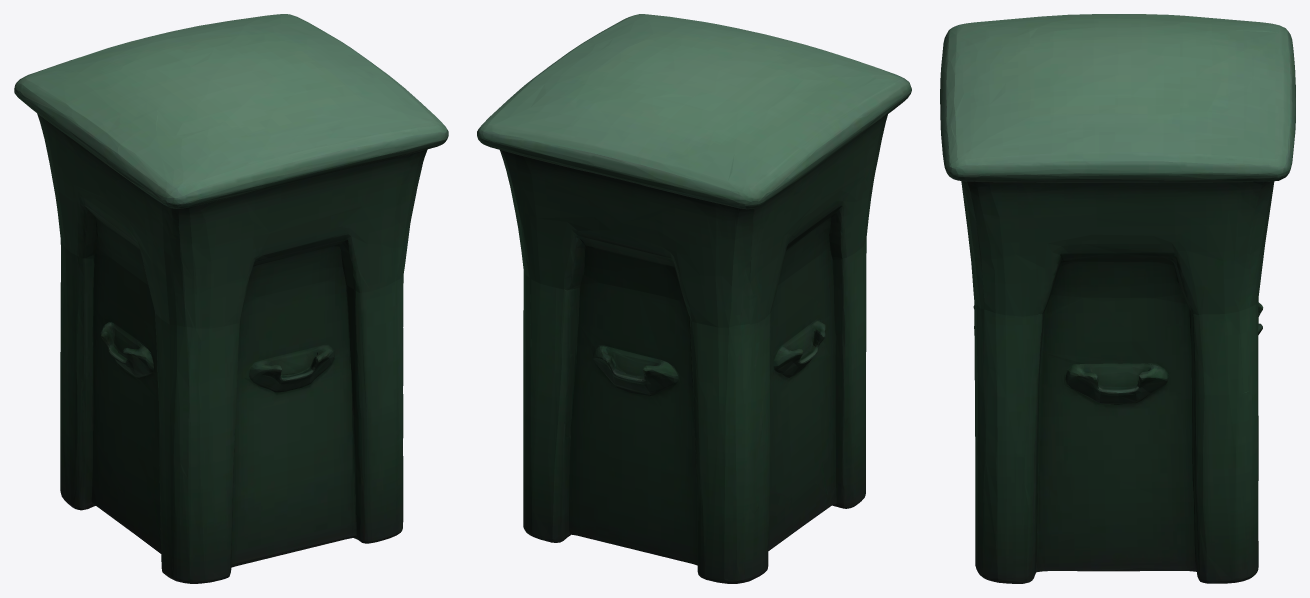
Rendered from trash_bin_green.glb.
The picture shows the model from 3 angles, left to right: view 1: azimuth 30°, elevation 25°; view 2: azimuth 150°, elevation 25°; view 3: azimuth 270°, elevation 25°; orthographic projection. The views are drawn at different scales.
Parts seen in each view (by area): view 1: geometry_0; view 2: geometry_0; view 3: geometry_0.
Part boxes in pixels (<box>): geometry_0: <box>14,14,448,583</box>; geometry_0: <box>477,14,911,583</box>; geometry_0: <box>940,14,1295,583</box>.
Bounding box in the file's own units: 0.6971 × 0.9959 × 0.6969.
Materials: 1 (1 with a texture image).
